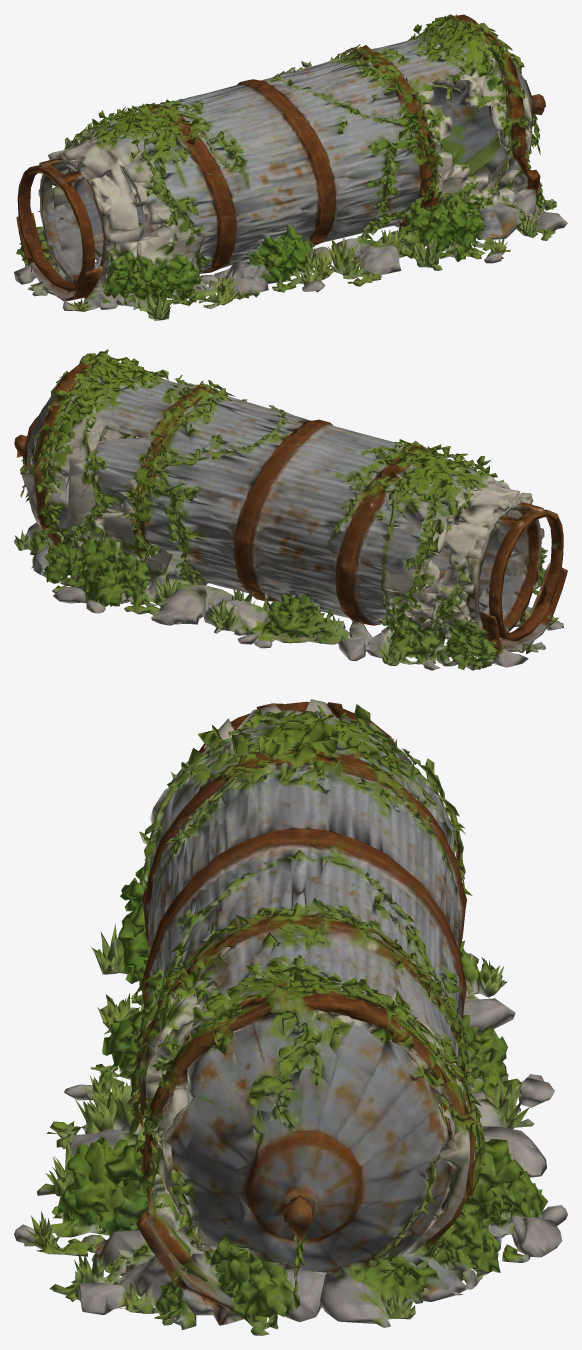
Rendered from silo.glb.
The picture shows the model from 3 angles, top to bottom: view 1: azimuth 30°, elevation 25°; view 2: azimuth 150°, elevation 25°; view 3: azimuth 270°, elevation 25°; orthographic projection. The views are drawn at different scales.
Bounding box in the file's own units: 1.9 × 0.632 × 1.01.
Materials: 1 (1 with a texture image).
